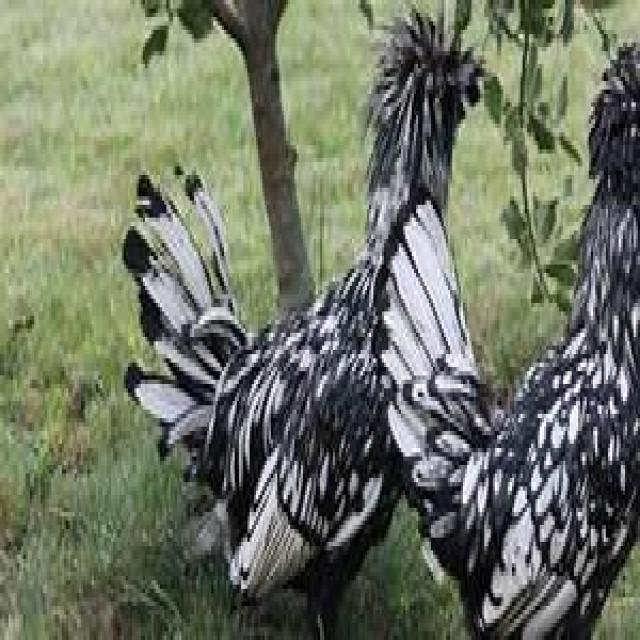chicken: (121, 0, 492, 636), (378, 25, 640, 635)
